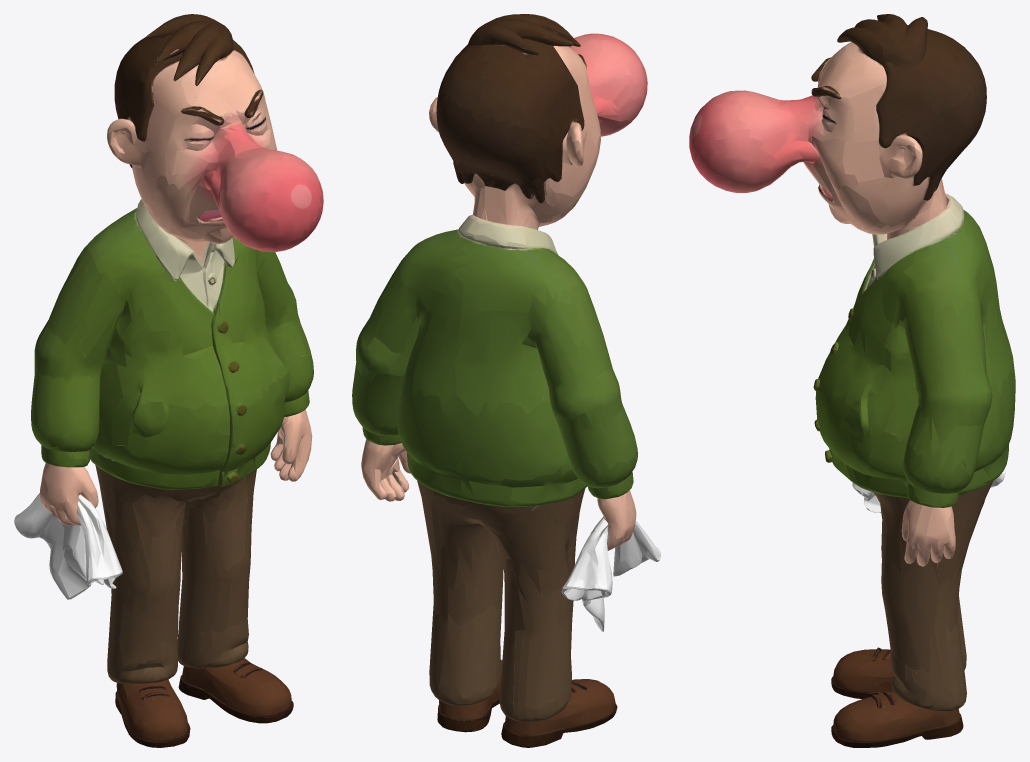
File: mrsneezy.glb
3 renders of one model, left to right at view 1: azimuth 30°, elevation 25°; view 2: azimuth 150°, elevation 25°; view 3: azimuth 270°, elevation 25°, orthographic.
Bounding box in the file's own units: 0.7896 × 1.9 × 0.813.
1 material, 1 textured.
